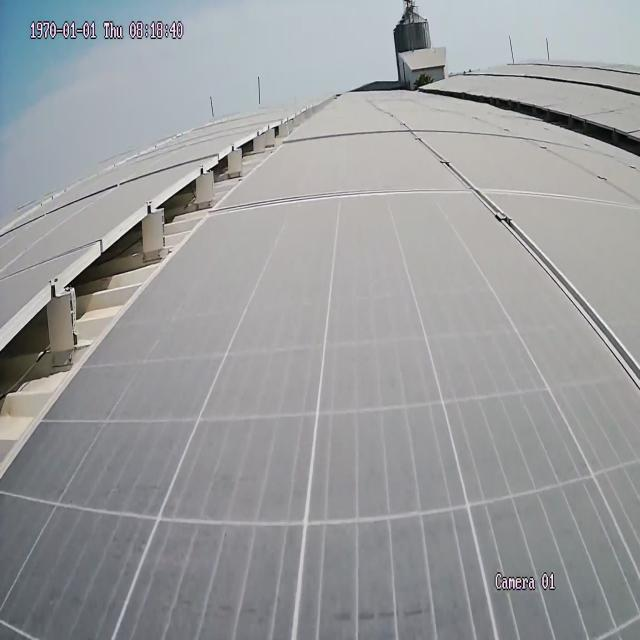interior panel: (391, 116, 640, 393)
outher panel: (0, 104, 322, 487), (453, 92, 640, 154)
